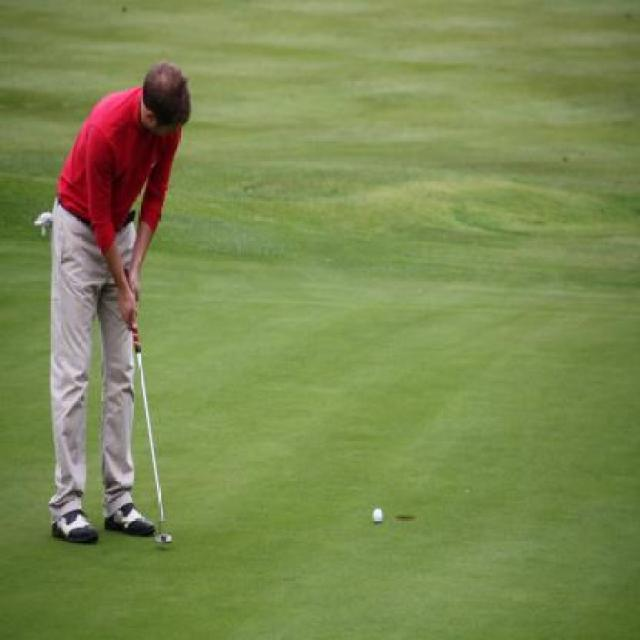club head: (154, 522, 174, 546)
